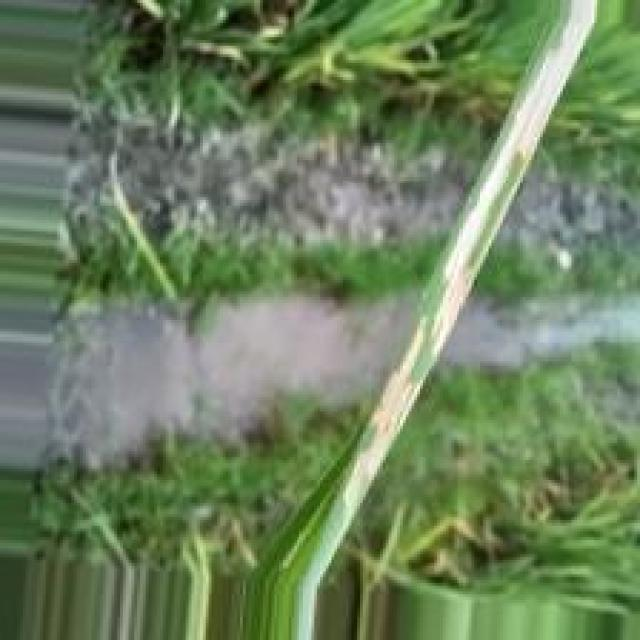Rice_Hispa: (434, 1, 602, 362), (339, 319, 421, 540)
